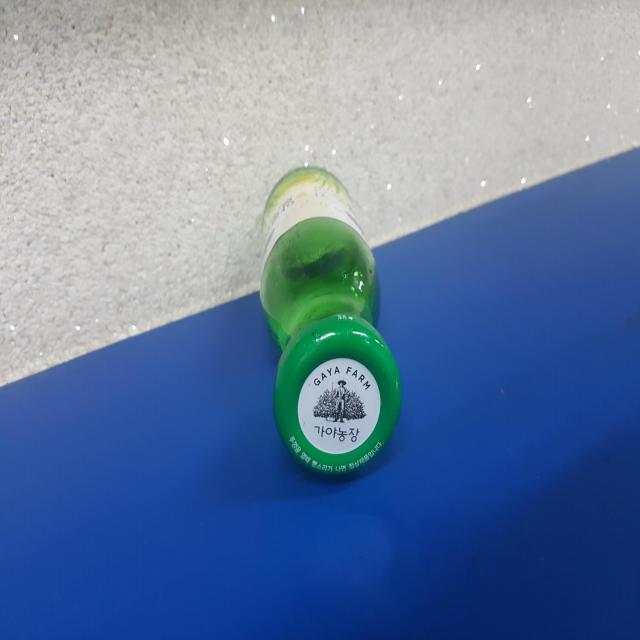glass: (261, 167, 402, 475)
